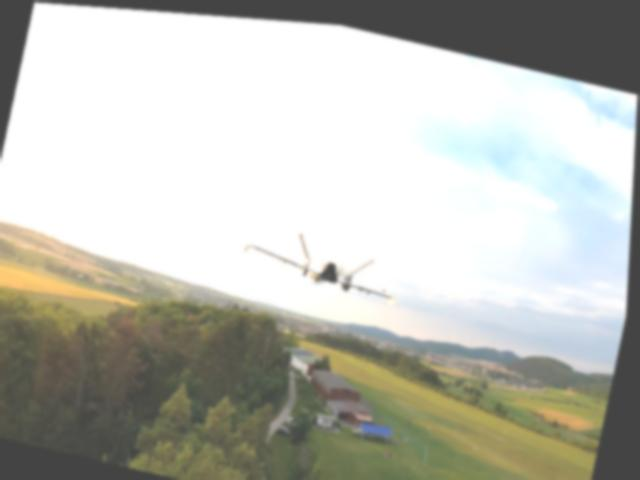plane: (240, 215, 407, 304)
